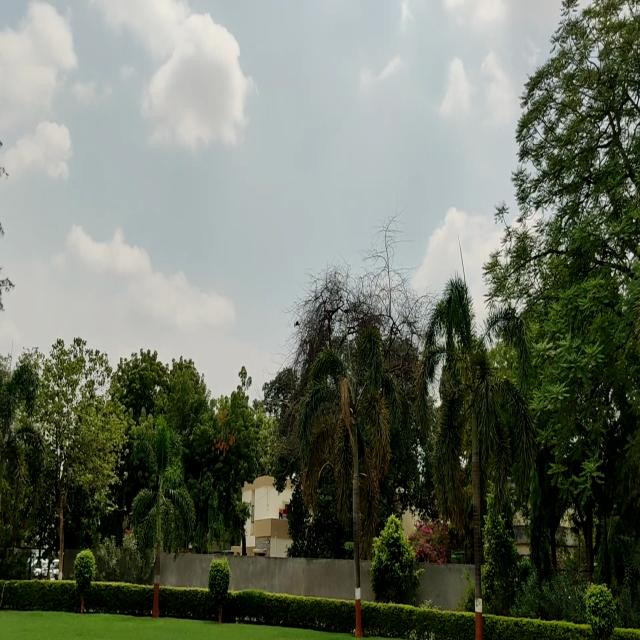drone: (288, 320, 304, 330)
